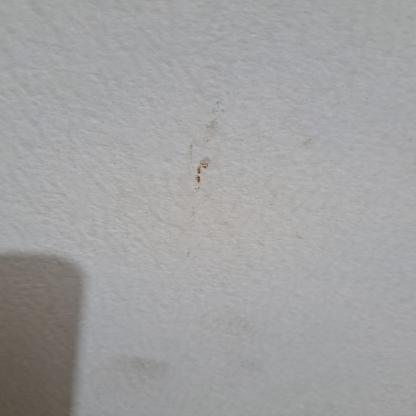spot: (161, 88, 243, 232)
